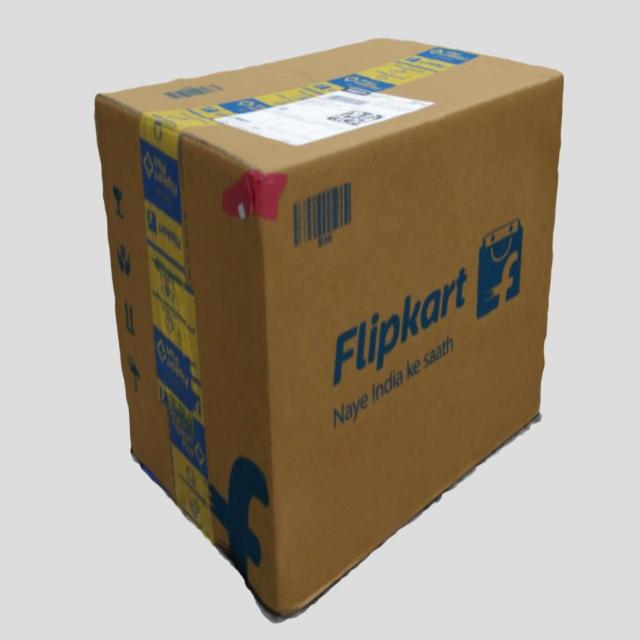box: (95, 38, 564, 617)
